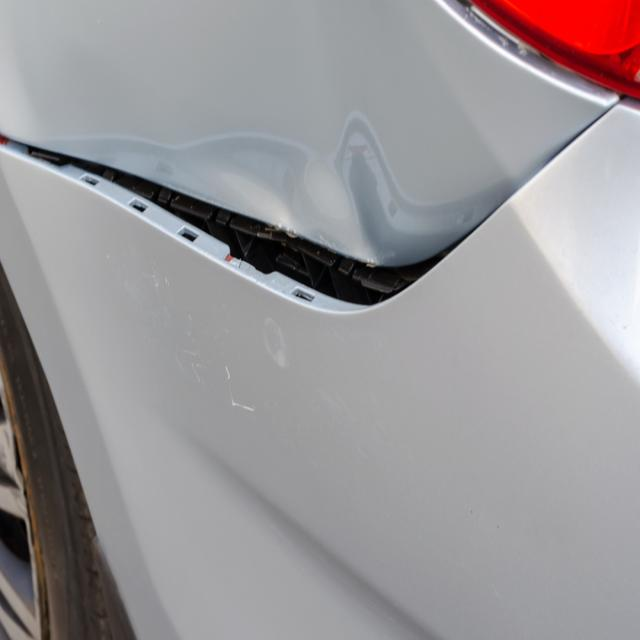dent: (167, 121, 412, 260)
